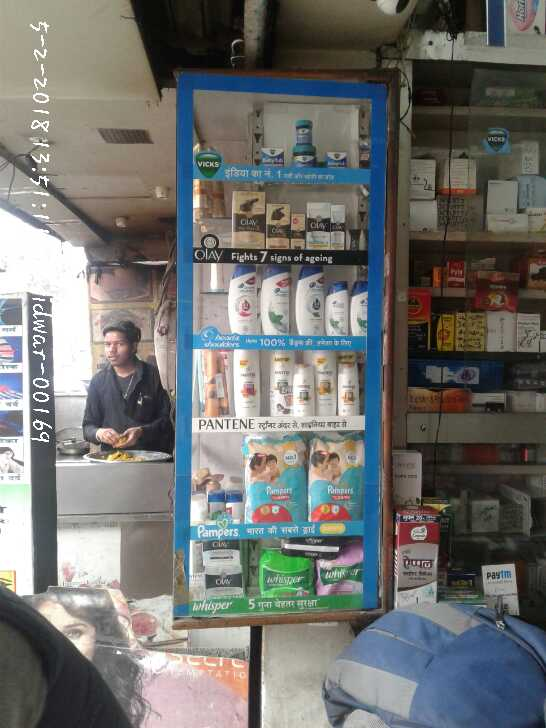vicks: (259, 114, 356, 171)
